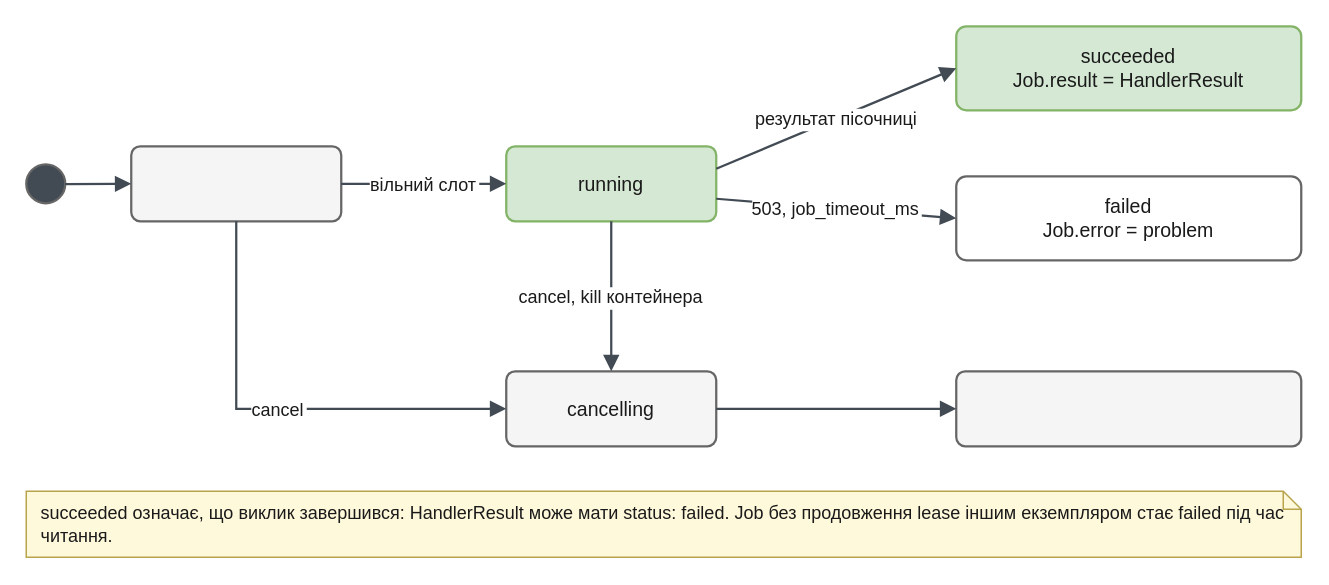
Image size: 1329x585. Some labels were removed from this diagram. The shapes that lost their labels are listed below. From the top down, each one's centre as x and y in pixels, then its label:
At point 235,183: "queued".
At point 1128,408: "cancelled".
